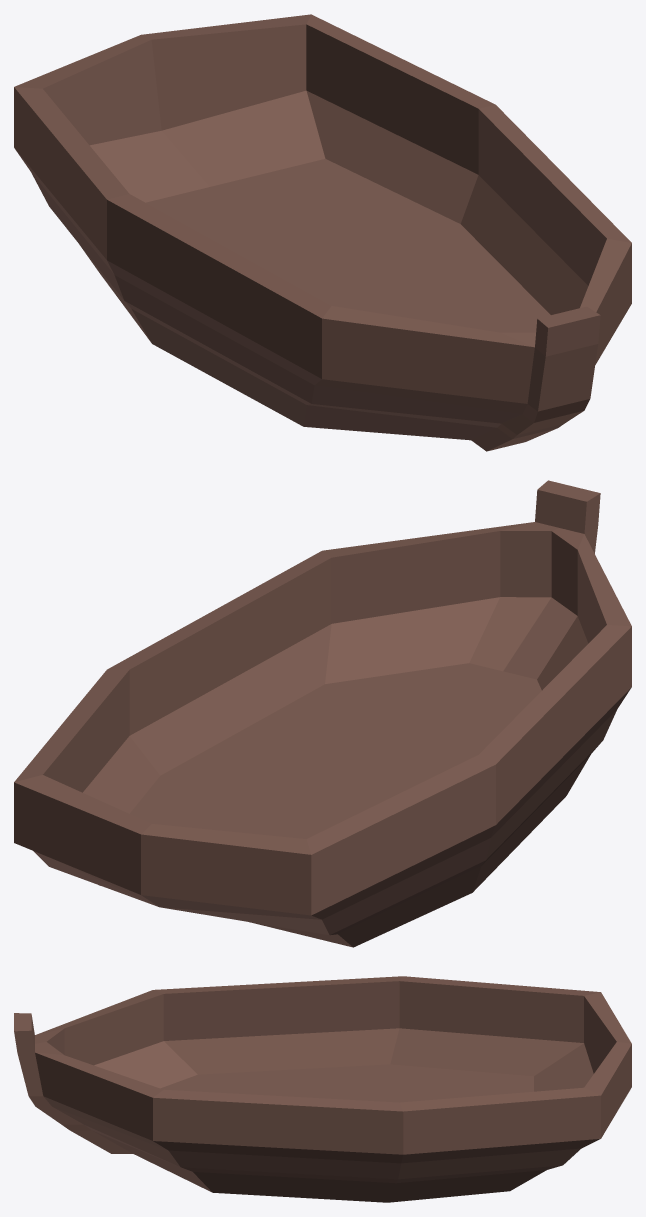
Rendered from Boat.glb.
3 views of the same model, one above another, from view 1: azimuth 30°, elevation 25°; view 2: azimuth 150°, elevation 25°; view 3: azimuth 270°, elevation 25° (orthographic). The views are drawn at different scales.
Parts seen in each view (by area): view 1: Boat; view 2: Boat; view 3: Boat.
Boxes of the visible parts, left/top/right/bottom form: Boat: left=14, top=14, right=631, bottom=451; Boat: left=14, top=480, right=631, bottom=947; Boat: left=14, top=976, right=631, bottom=1202.
Size of the model in its own units: 4.67 by 2.01 by 9.01.
